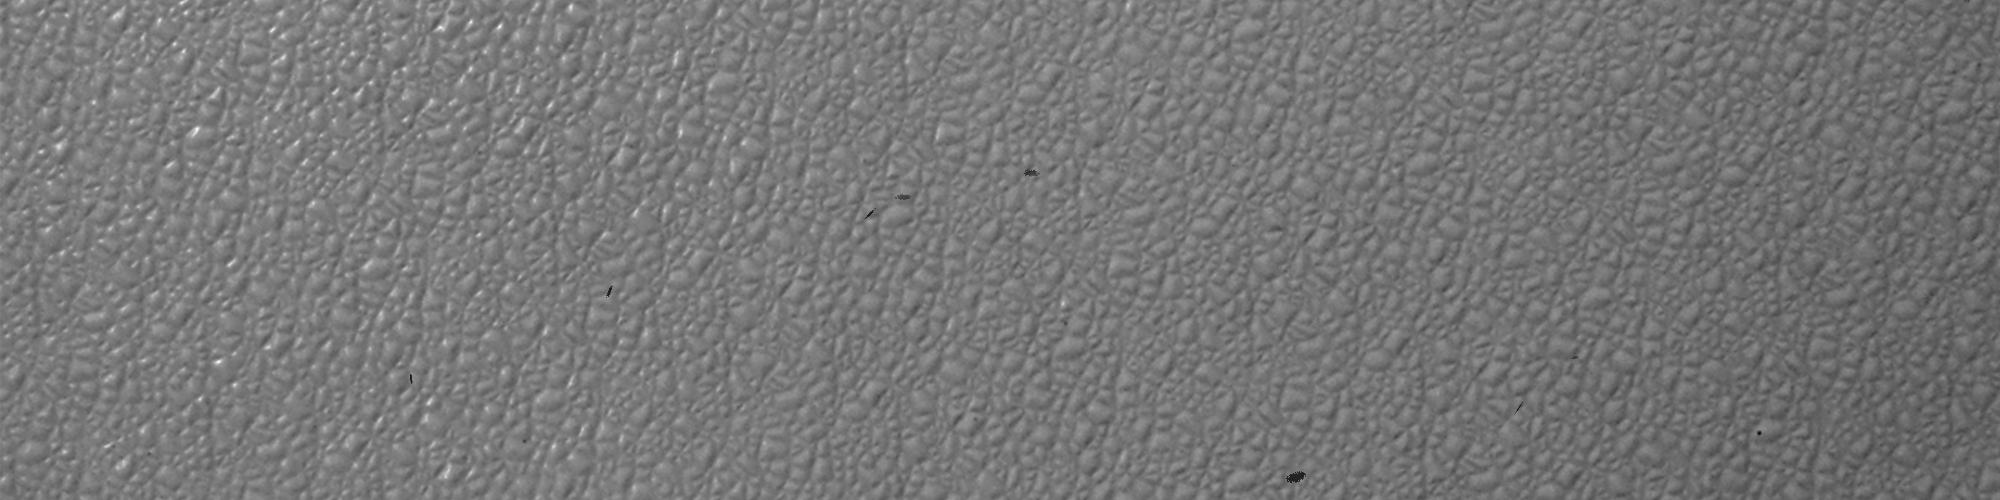Decomposed: (593, 278, 621, 304), (1018, 166, 1043, 185), (1288, 463, 1305, 491), (395, 371, 416, 392), (855, 205, 881, 221), (890, 191, 915, 205)
